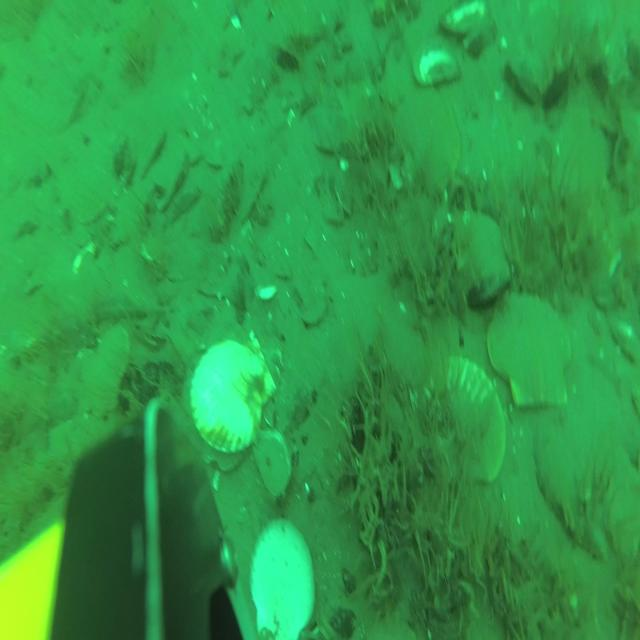holothurian: (369, 0, 415, 31)
scallop: (191, 336, 273, 468), (486, 294, 574, 411), (428, 356, 506, 488), (248, 514, 316, 640), (394, 91, 464, 196), (448, 212, 508, 296), (553, 114, 605, 201), (309, 100, 351, 158)
